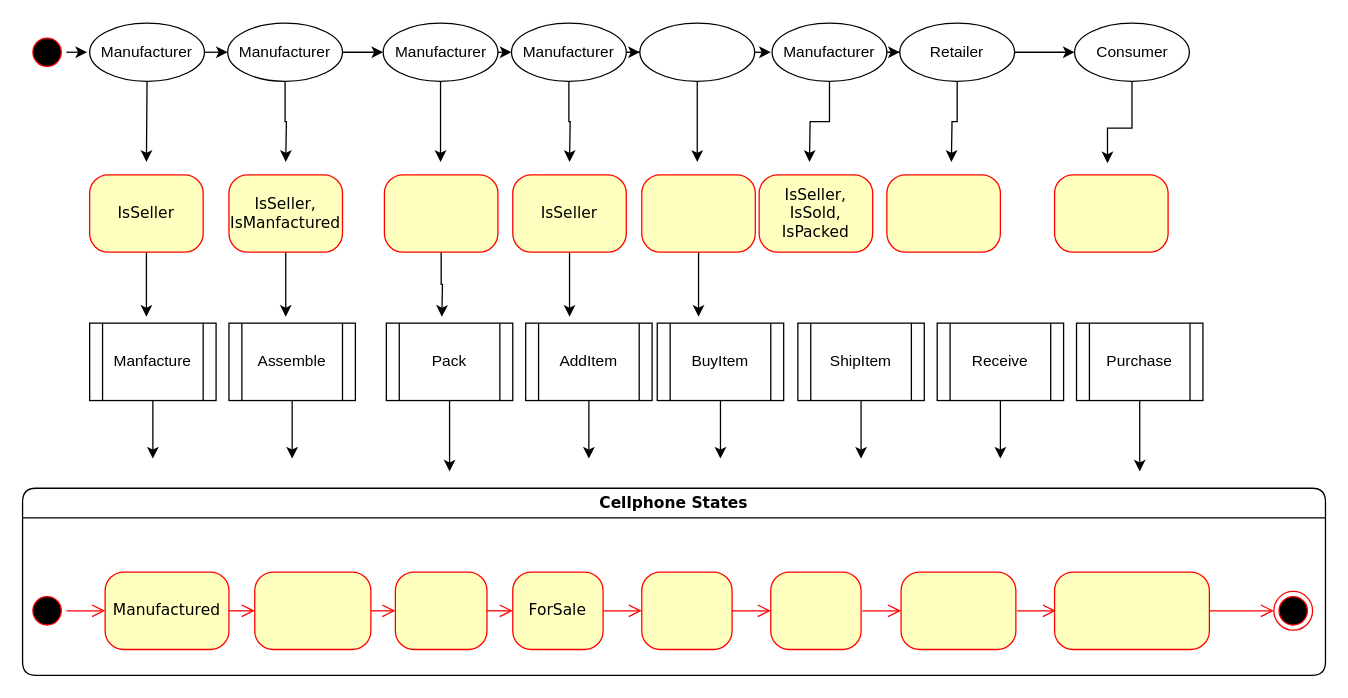
Some shapes in this 1348 by 698 pixel diagram are drawn without their labels. The centre of each missing label's shape, as x and y in pixels:
Assembled: point (312, 610)
BrandOwner: point (697, 51)
IsBuyer, IsForSale, IsPaidEnough IsCheckValue: point (697, 213)
IsConsumer IsForPurchase IsPaidEnough IsCheckValue: point (1110, 213)
IsRetailer IsShipped: point (943, 213)
IsSeller, IsAssembled: point (440, 213)
Packed: point (440, 610)
Purchased: point (1131, 610)
Received: point (958, 610)
Shipped: point (815, 610)
Sold: point (686, 610)
